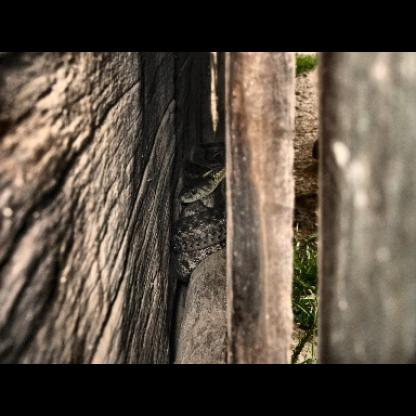Snake: (178, 154, 221, 272)
